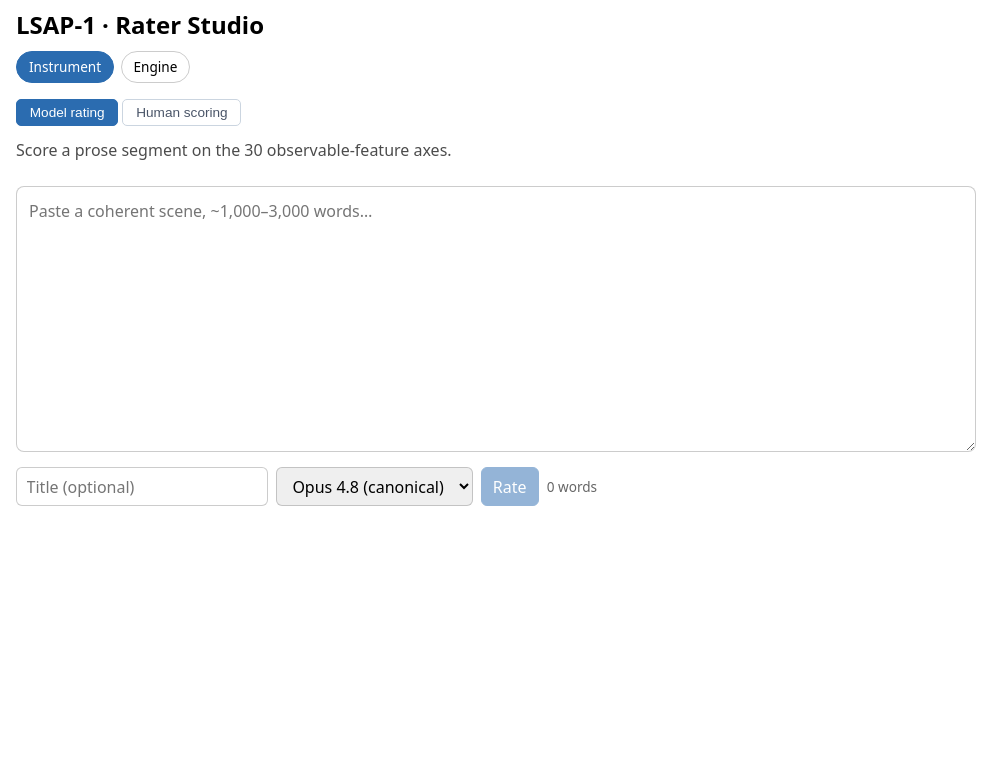
Test case: App › rates a segment and renders scores with values and forced-choice labels
Type "some prose to score" into the text box with placeholder "Paste a coherent scene, ~1,000–3,000 words…". click: point(496, 319)
box: [16,186,976,452]
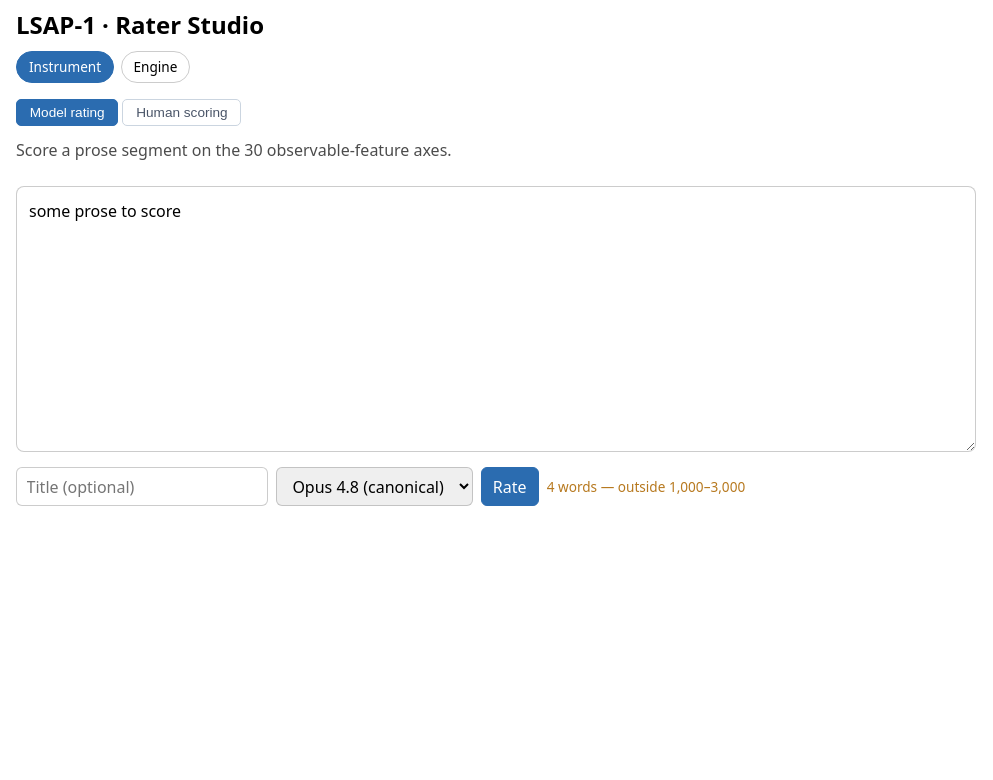
Click the button "Rate". click: point(510, 487)
box: [481,467,539,506]
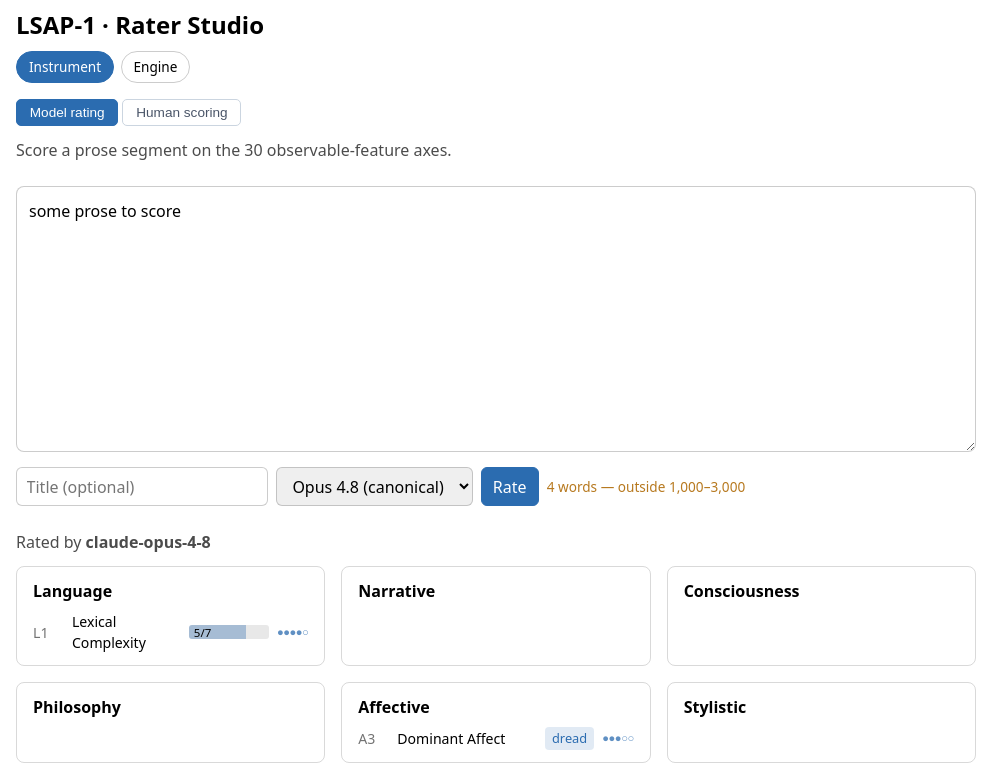
Now the text "Rated by claude-opus-4-8" is shown, box [16,531,211,553]
Now the text "claude-opus-4-8" is shown, box [86,531,211,553]
Now the text "5/7" is shown, box [194,625,211,640]
